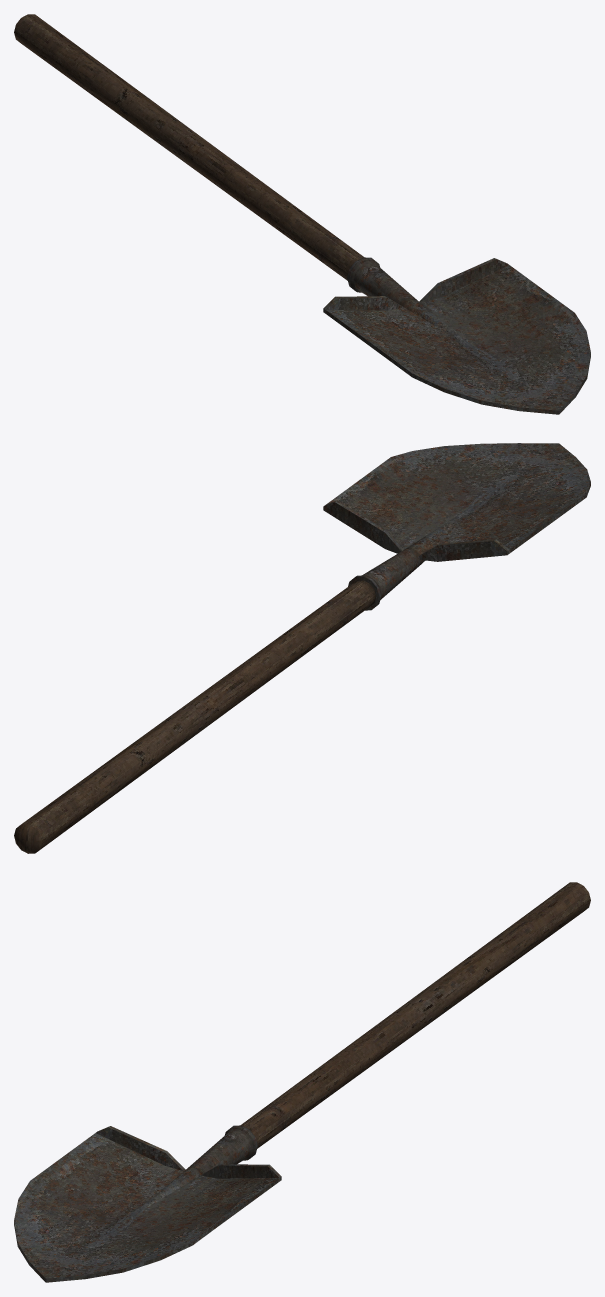
Rendered from shovel_mx_1.glb.
The picture shows the model from 3 angles, top to bottom: view 1: azimuth 30°, elevation 25°; view 2: azimuth 150°, elevation 25°; view 3: azimuth 330°, elevation 25°; orthographic projection.
Parts seen in each view (by area): view 1: shovel_mx_1; view 2: shovel_mx_1; view 3: shovel_mx_1.
Part boxes in pixels (box(x1,y1,x2,y2)): shovel_mx_1: box(14, 14, 590, 414); shovel_mx_1: box(14, 443, 590, 853); shovel_mx_1: box(14, 882, 590, 1282).
Bounding box in the file's own units: 0.39 × 0.1044 × 1.96.
Materials: 1 (1 with a texture image).
